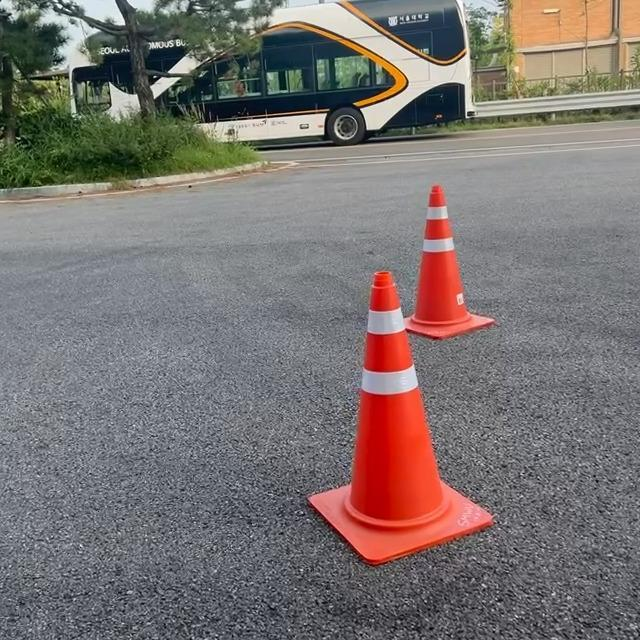fallen_object: (316, 262, 492, 578), (392, 165, 498, 375)
